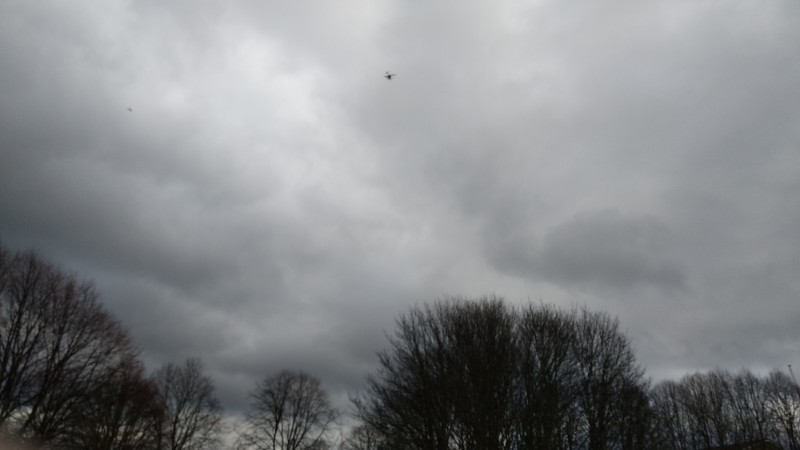drone: (384, 71, 396, 81)
